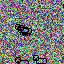sheep: (15, 24, 29, 36), (18, 25, 32, 36), (33, 55, 47, 64), (15, 57, 29, 64)
